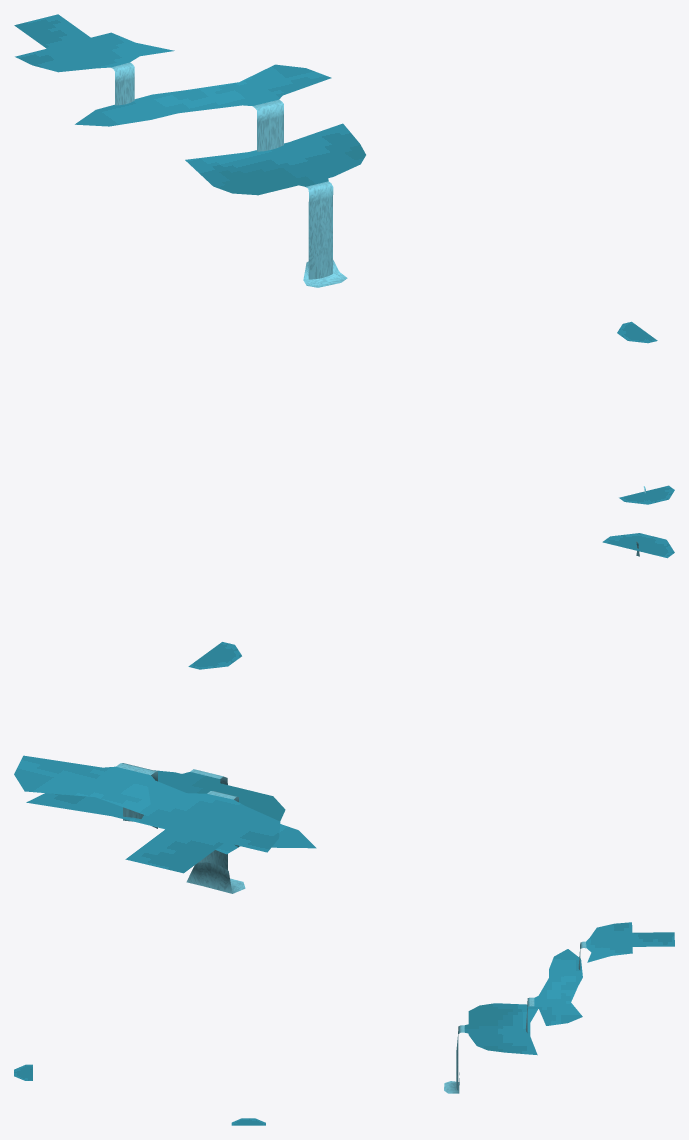
The model's file is Water.obj.
3 renders of one model, top to bottom at view 1: azimuth 30°, elevation 25°; view 2: azimuth 150°, elevation 25°; view 3: azimuth 270°, elevation 25°, orthographic. The views are drawn at different scales.
Bounding box in the file's own units: 609 × 285 × 1562.
Materials: 2 (2 with a texture image).
